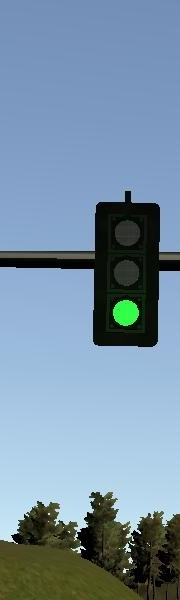Green: (96, 202, 161, 349)
